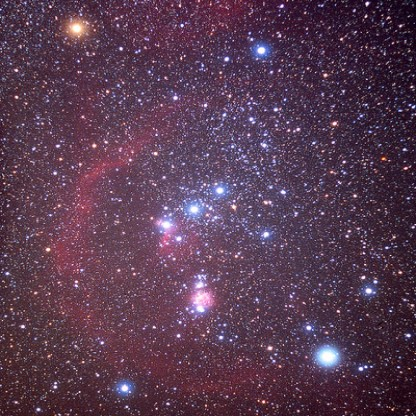Orion: (302, 330, 352, 384), (59, 13, 92, 44), (146, 213, 178, 243), (203, 175, 233, 206), (246, 34, 273, 68), (109, 373, 140, 401), (176, 197, 202, 230)
